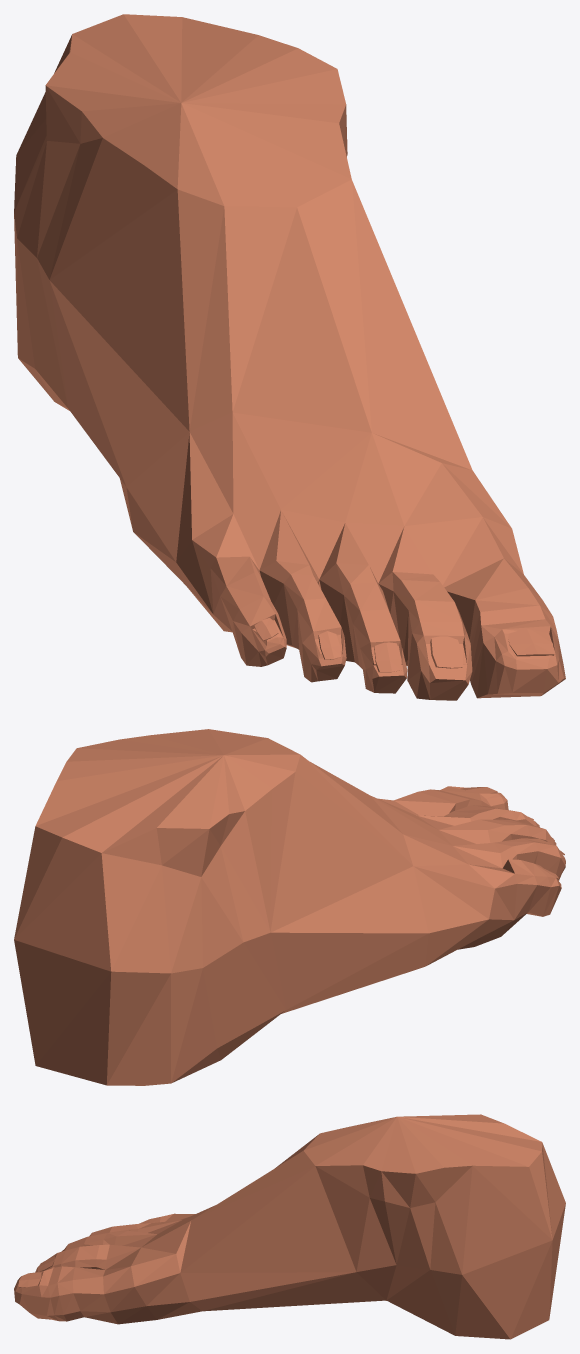
Rendered from foot_right.dae.
3 renders of one model, top to bottom at view 1: azimuth 30°, elevation 25°; view 2: azimuth 150°, elevation 25°; view 3: azimuth 270°, elevation 25°, orthographic. The views are drawn at different scales.
Visible parts, largest first — view 1: Foot; view 2: Foot; view 3: Foot.
Boxes of the visible parts, <box> form: Foot: <box>14,14,565,700</box>; Foot: <box>14,729,565,1085</box>; Foot: <box>14,1114,565,1339</box>.
Bounding box in the file's own units: 0.656 × 1.61 × 0.623.
